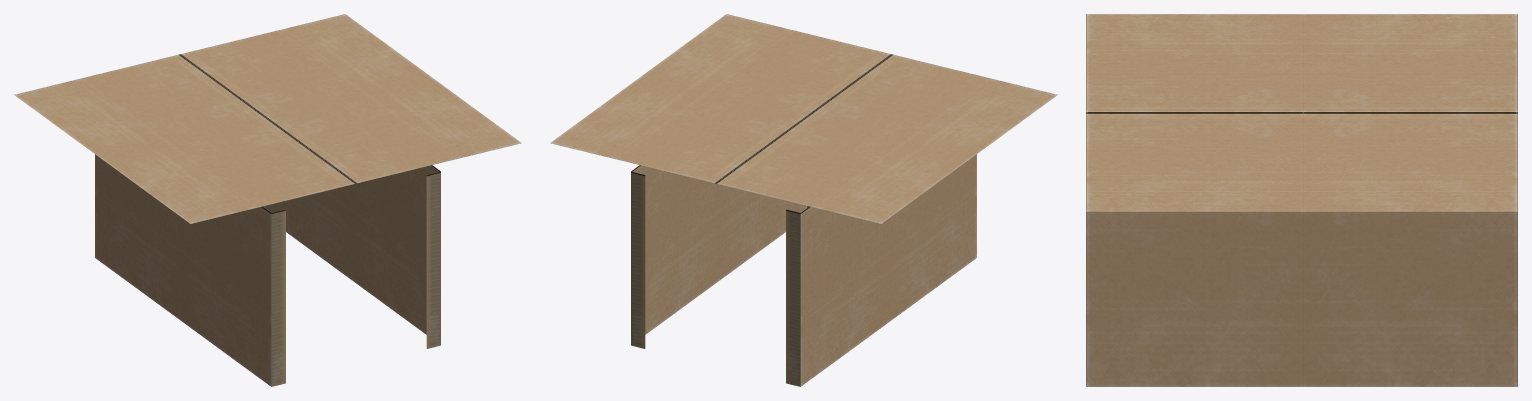
The model's file is Boxtest.fbx.
The picture shows the model from 3 angles, left to right: view 1: azimuth 30°, elevation 25°; view 2: azimuth 150°, elevation 25°; view 3: azimuth 270°, elevation 25°; orthographic projection. The views are drawn at different scales.
Parts seen in each view (by area): view 1: Cube; view 2: Cube; view 3: Cube.
Boxes of the visible parts, <box> form: Cube: <box>14,14,521,386</box>; Cube: <box>550,14,1057,386</box>; Cube: <box>1086,14,1517,386</box>.
Bounding box in the file's own units: 399 × 210 × 368.
